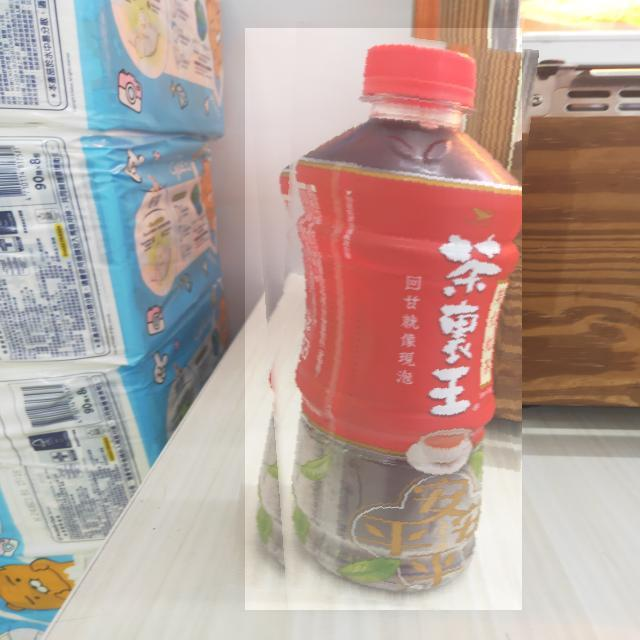ChaLiWong_BritainBlackTea: (245, 28, 522, 610)
